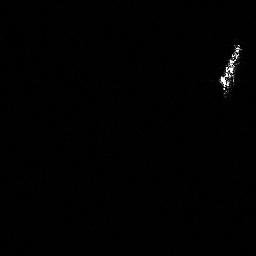ship: (214, 39, 245, 98)
